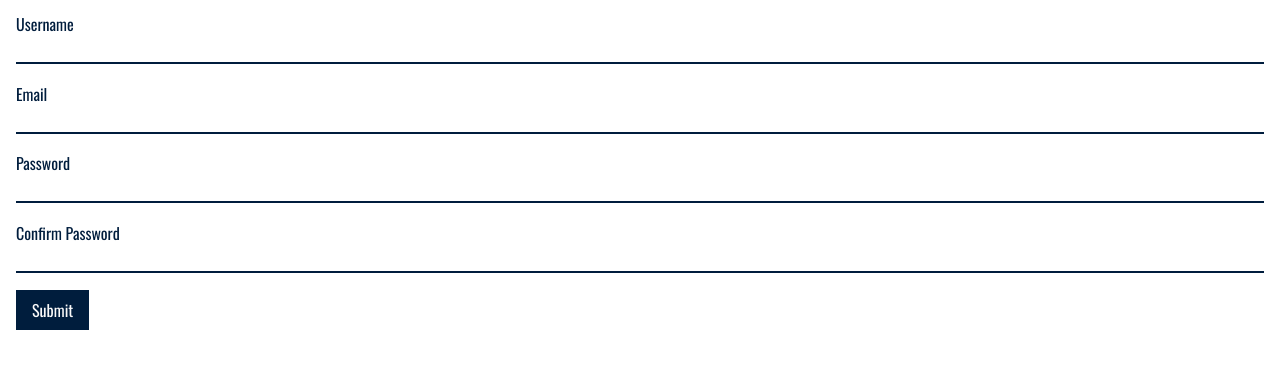
Test case: Register Form › should display an error message for a password less than 8 characters long
Type "username" into the field labelled "Username" at [640, 51], box [16, 37, 1264, 64]
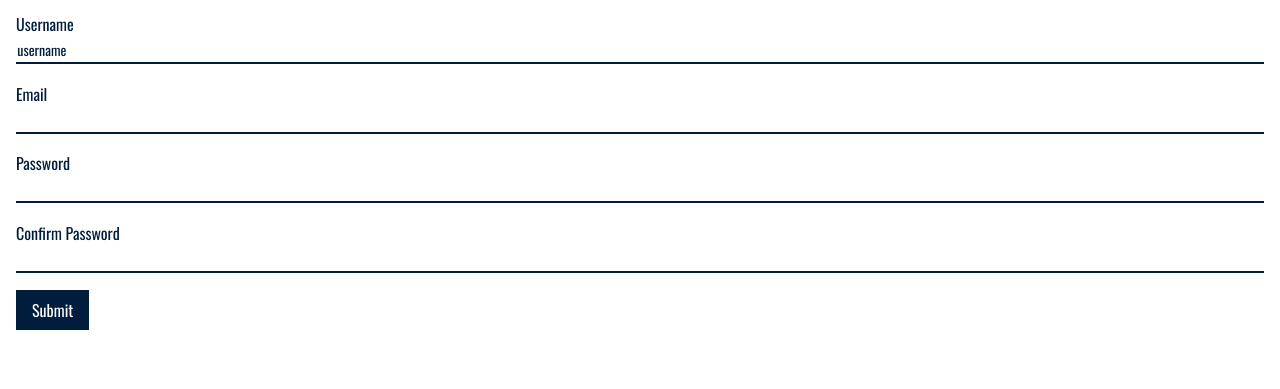
Type "a@a.pl" into the field labelled "Email" at [640, 120], box [16, 107, 1264, 134]
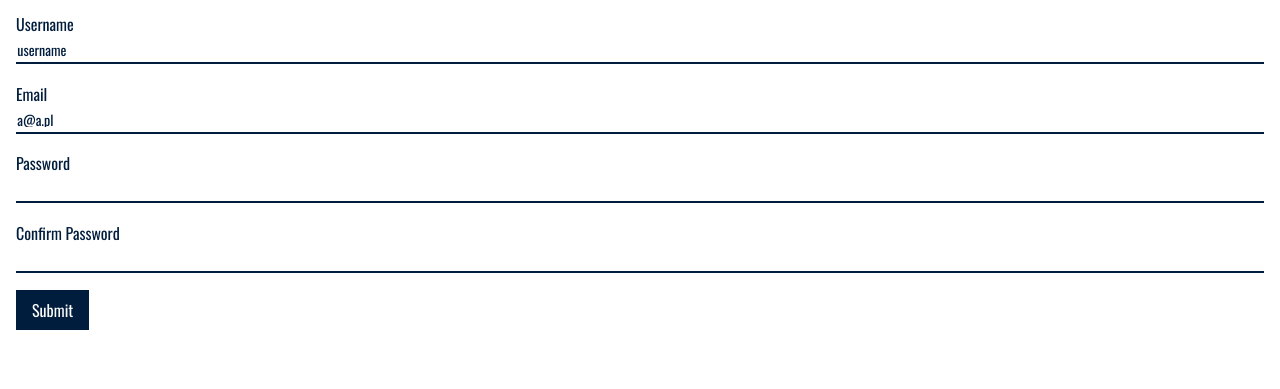
Type "Pa$$" into the password field labelled "Password" at [640, 190], box [16, 176, 1264, 203]
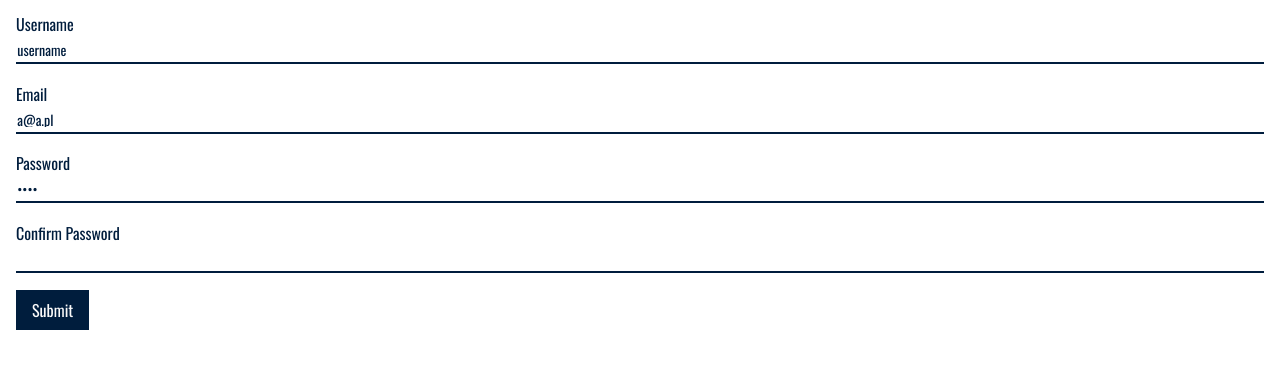
Type "Pa$$w0rd" into the password field labelled "Confirm Password" at [640, 259], box [16, 246, 1264, 273]
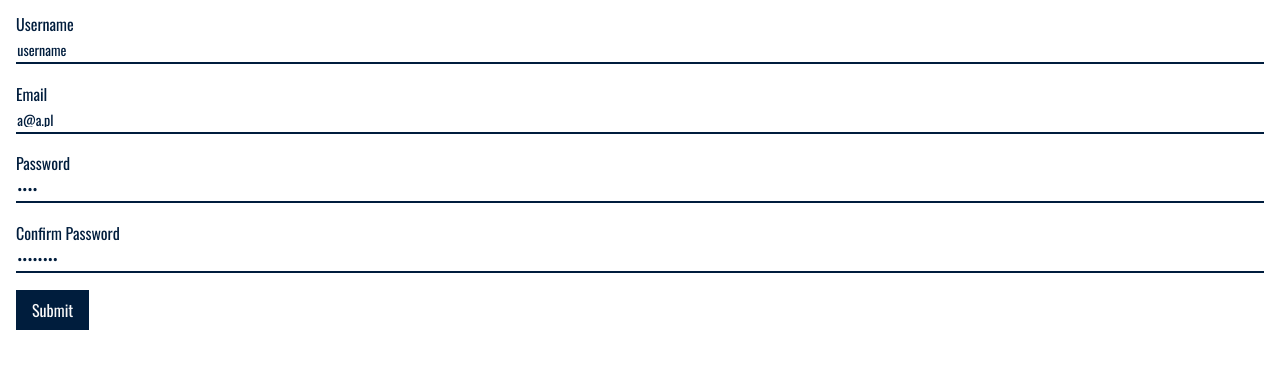
Click the button "Submit" at [53, 310], box [16, 290, 89, 330]
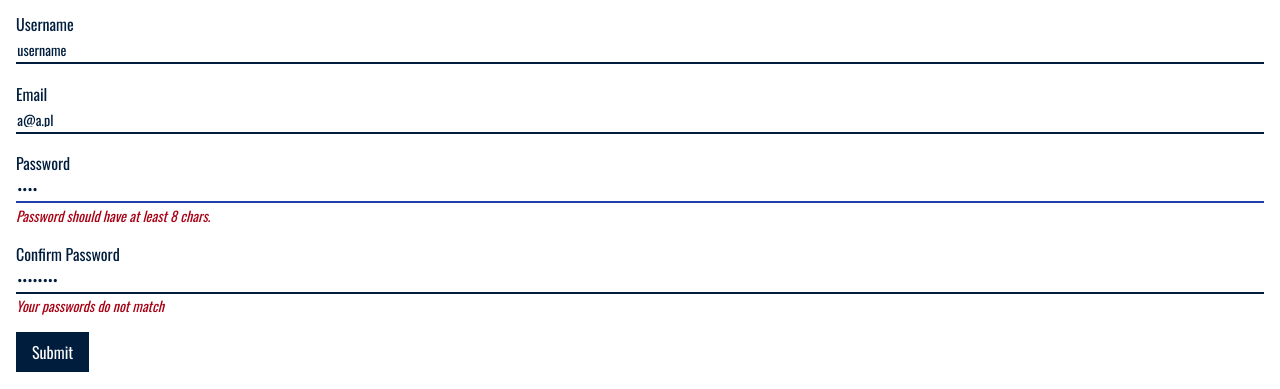
Result: the text "Password should have at least 8 chars." is shown at [16, 204, 210, 226]
